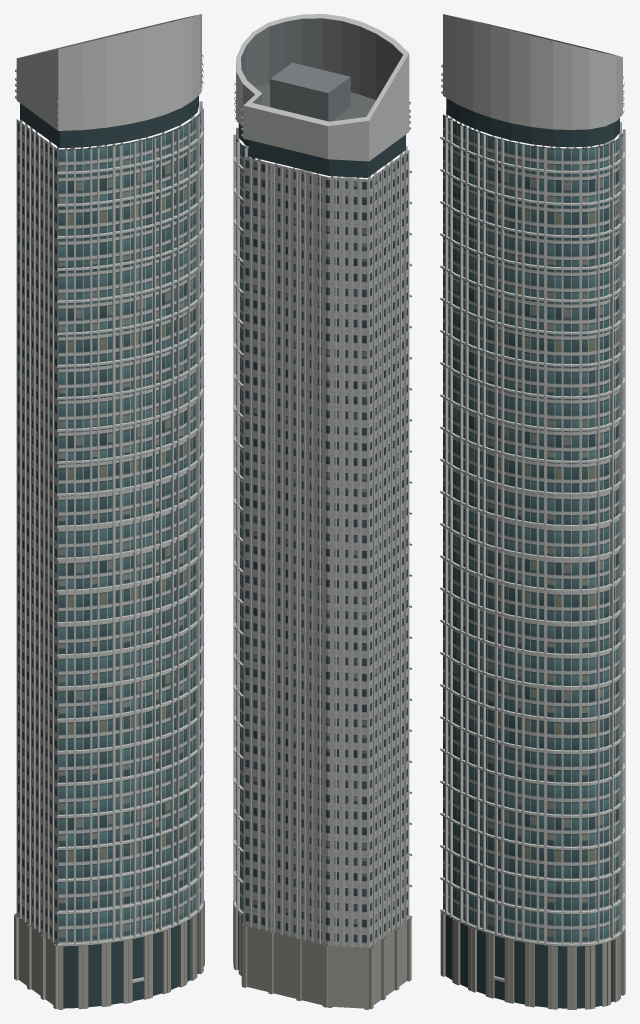
File: one_rincon_hill.glb
3 renders of one model, left to right at view 1: azimuth 30°, elevation 25°; view 2: azimuth 150°, elevation 25°; view 3: azimuth 330°, elevation 25°, orthographic. The views are drawn at different scales.
Visible parts, largest first — view 1: one_rincon_hill; view 2: one_rincon_hill; view 3: one_rincon_hill.
Part boxes in pixels (bbox=[...]): one_rincon_hill: bbox=[14, 14, 204, 1009]; one_rincon_hill: bbox=[233, 14, 411, 1009]; one_rincon_hill: bbox=[440, 14, 625, 1009].
Bounding box in the file's own units: 31.96 × 184 × 22.01.
Materials: 3 (3 with a texture image).
